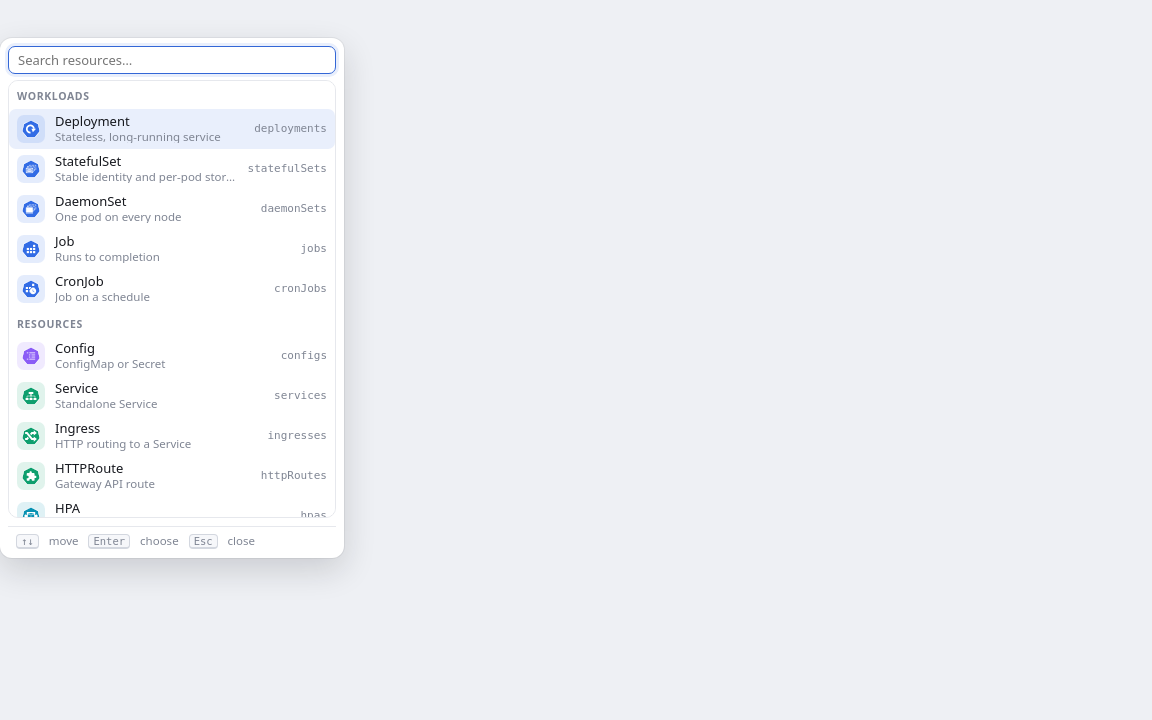
Scenario: Launcher › Tab stays inside the dialog and the untrimmed query is not echoed
Press Tab in the dialog, box [0,38,344,558]
Type "  zzz  " into the dropdown labelled "Search resources". click: (172, 60)
box: [8,46,336,74]
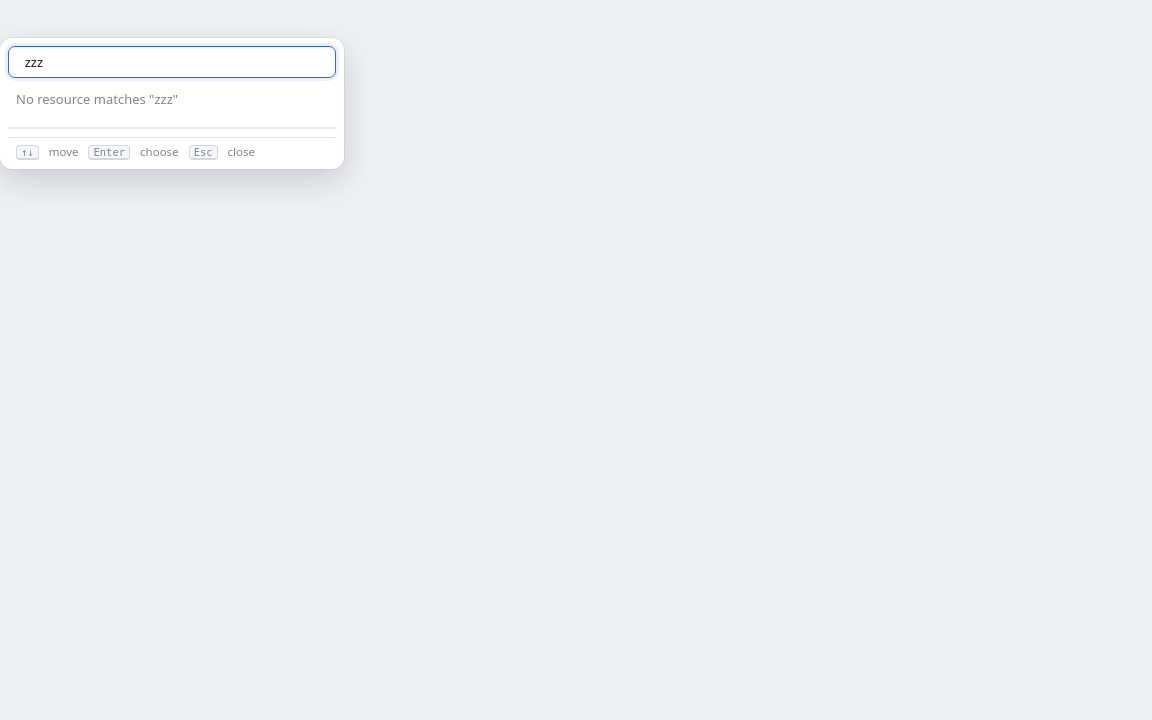
Check: the text "No resource matches \"zzz\"" is shown, box [16,90,178,108]
